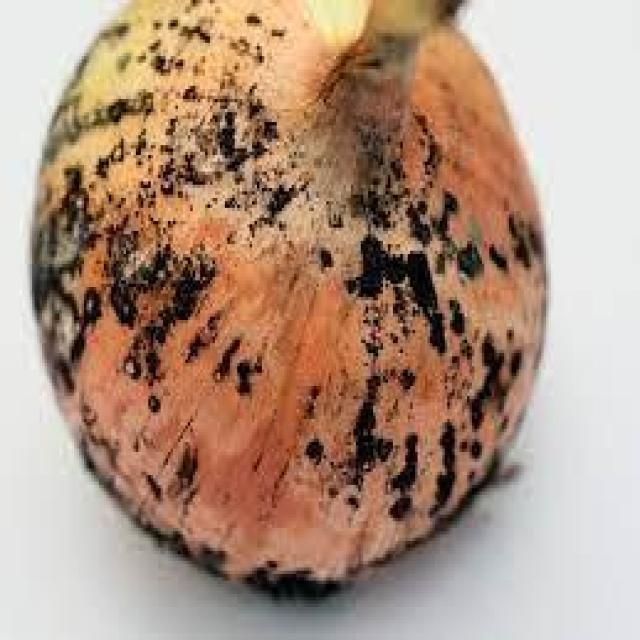Onion: (25, 0, 551, 604)
